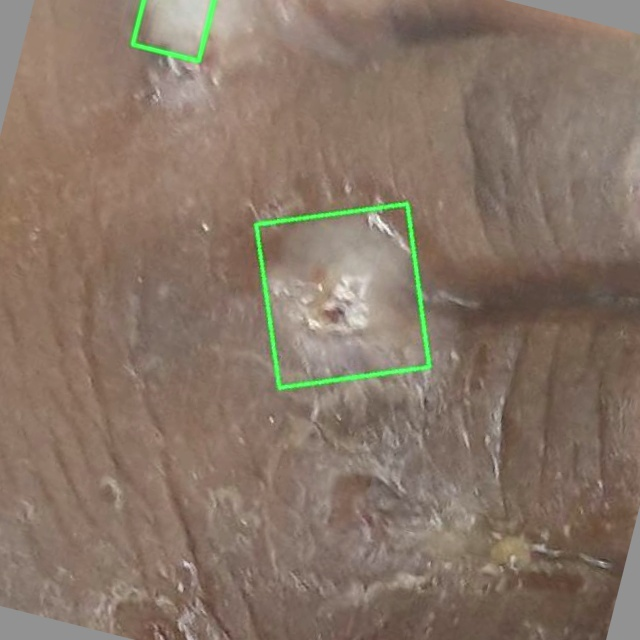Eczema: (255, 204, 429, 388)
